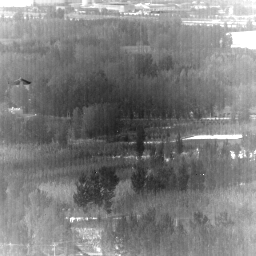aircraft: (116, 130, 118, 132)
